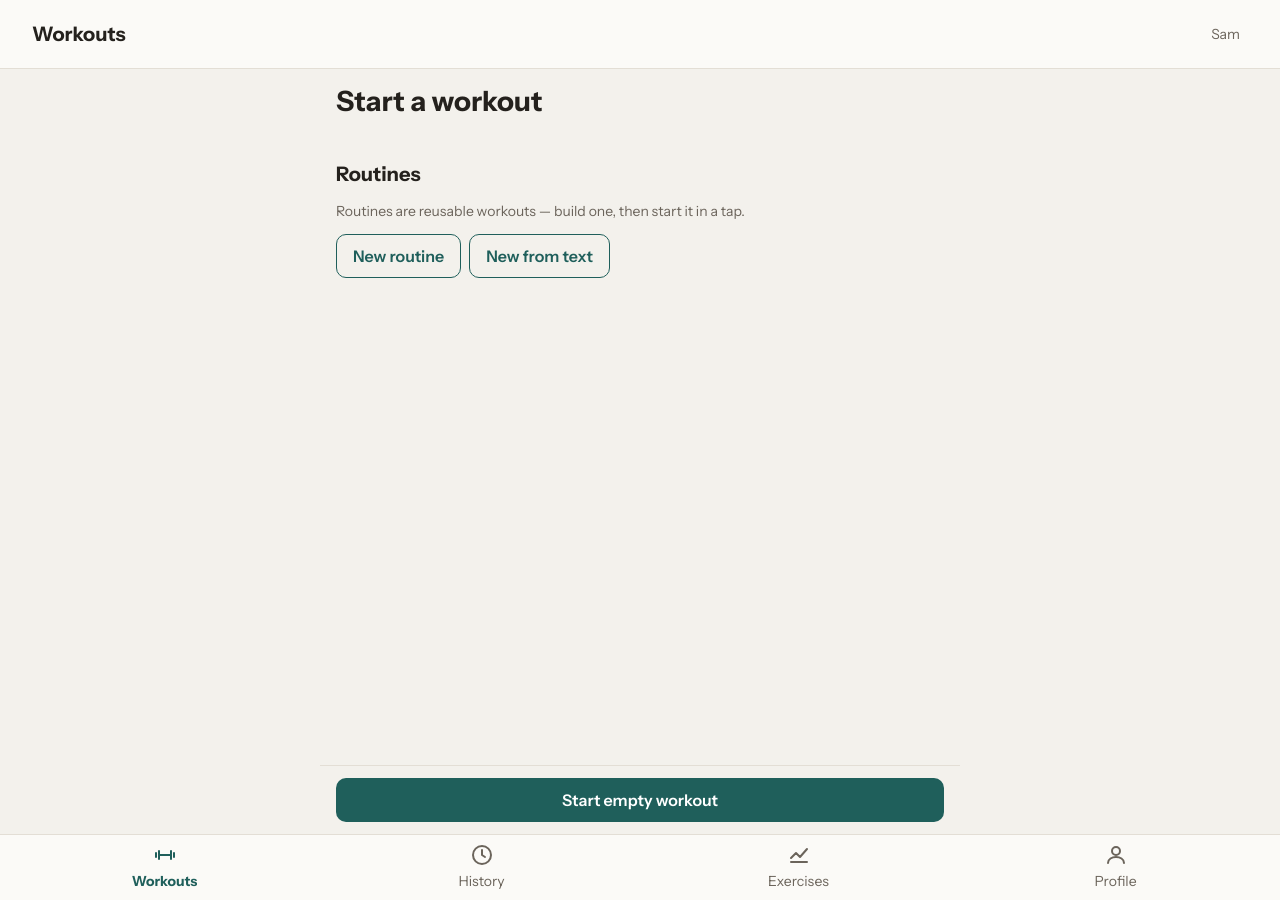
Test: AC16 — Start › 409 workout-in-progress-exists resumes the workout and says so
Click the button "Start empty workout" at [640, 800], box [336,778,944,822]
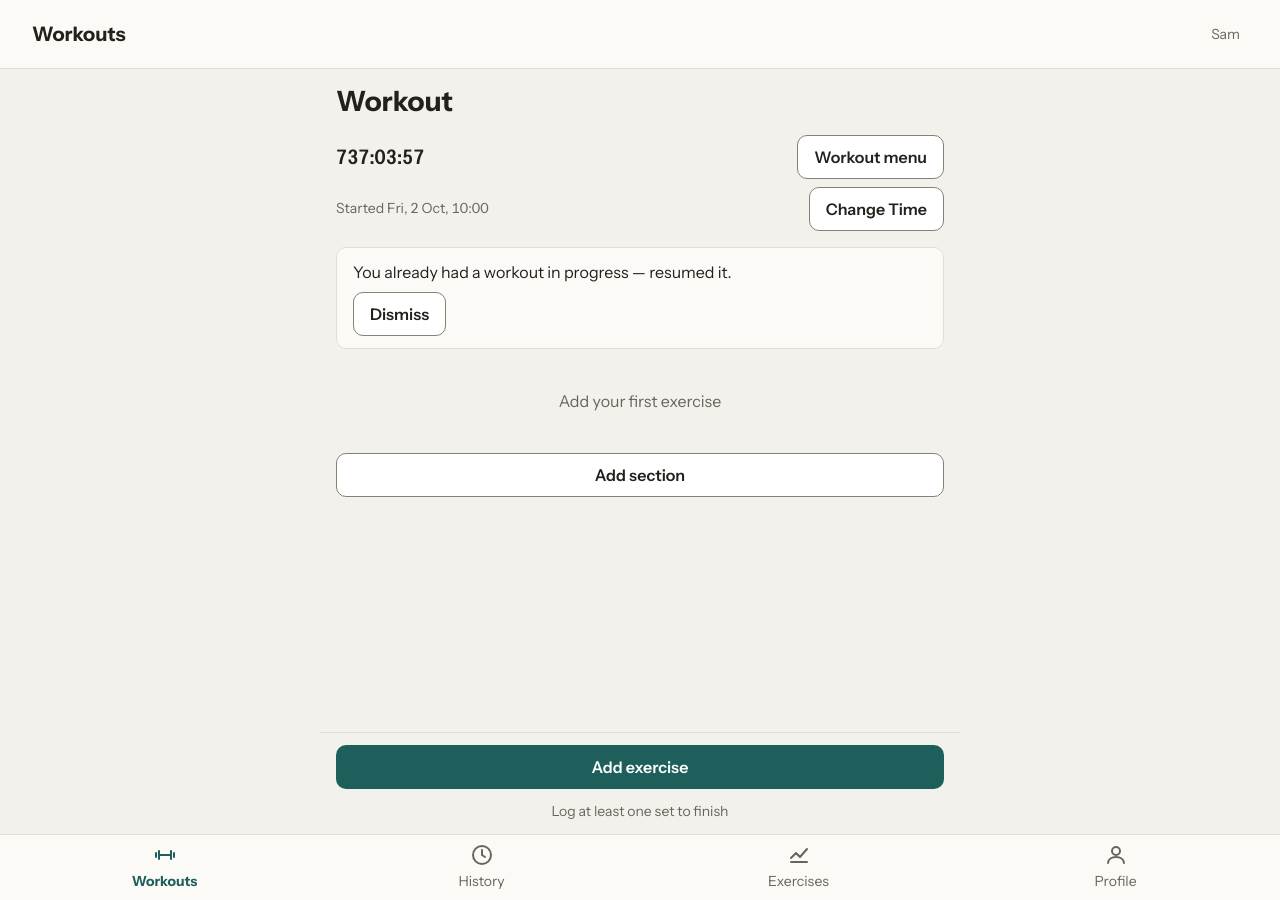
Expected: the heading "Workout" is shown, [336,84,453,118]
Expected: the text "You already had a workout in progress — resumed it." is shown, [353,262,732,282]
